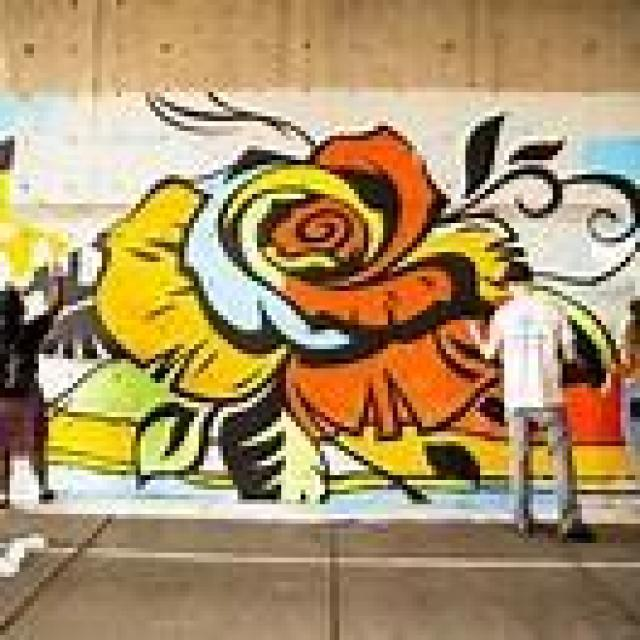nonspitting: (34, 82, 640, 500)
